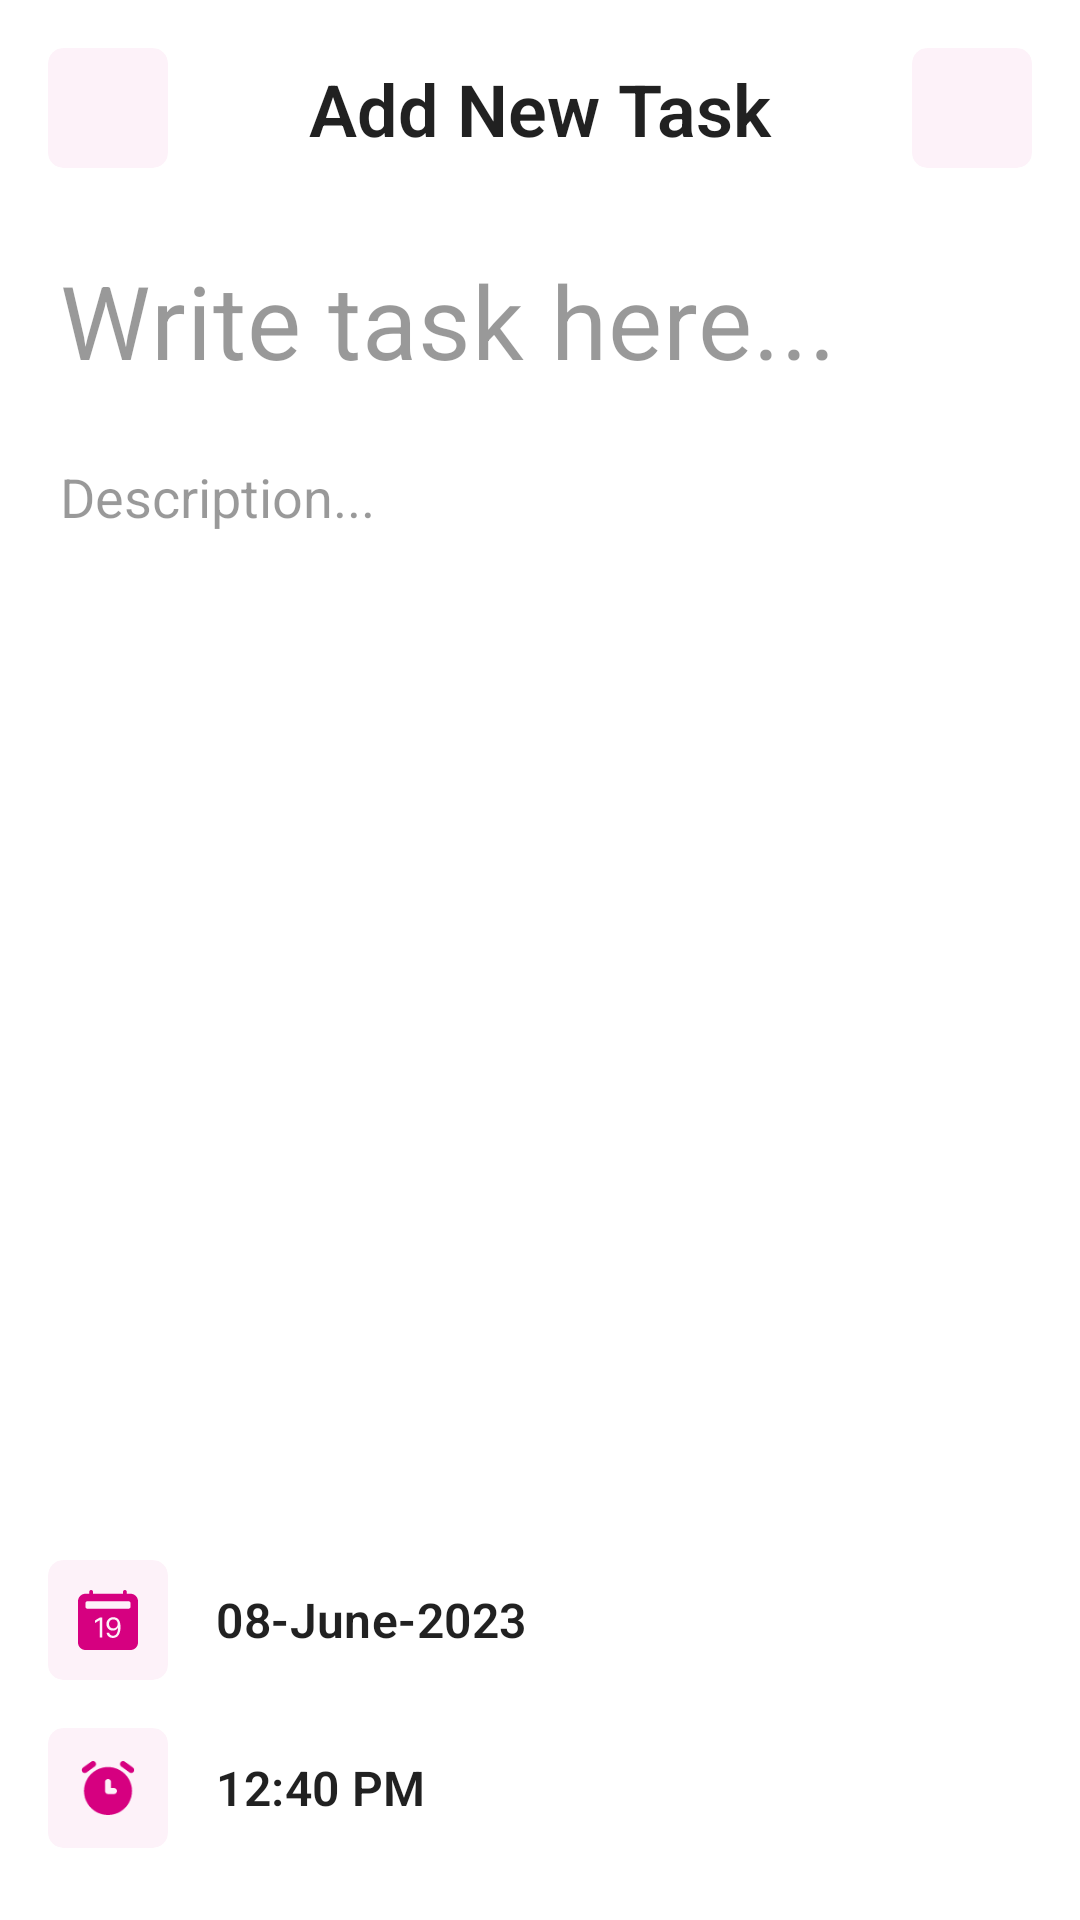

Icon bounding boxes for this 1080x1920 phone screenshot, format box=[x1, y1, x2, y2]:
bi calendar date: box=[78, 1590, 138, 1650]
tabler alarm: box=[81, 1761, 134, 1815]
